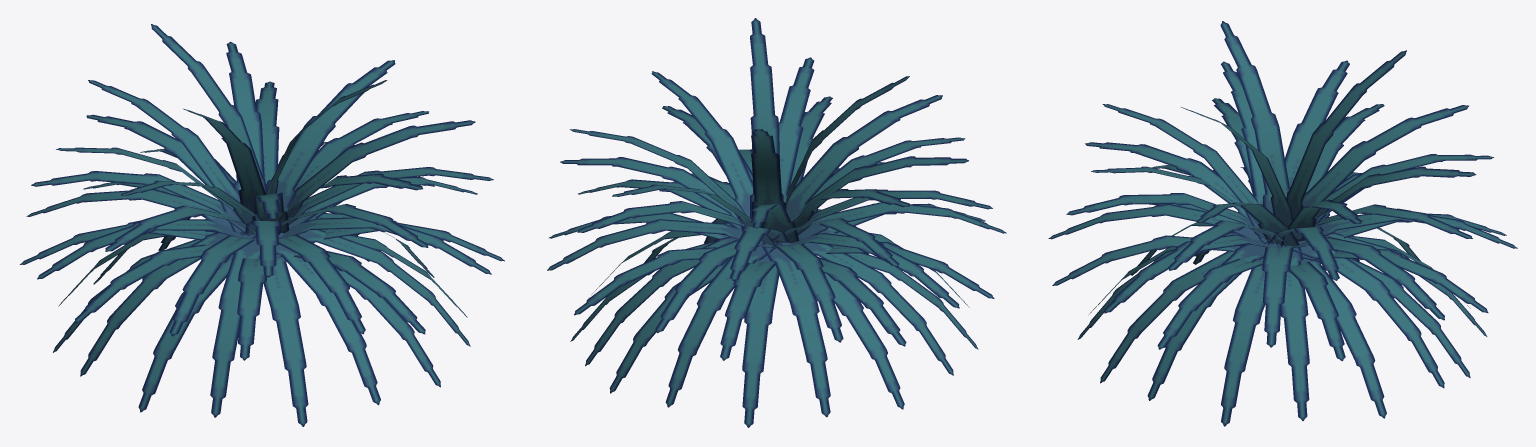
The model's file is Prop_Arbusto1.fbx.
3 views of the same model, side by side, from view 1: azimuth 30°, elevation 25°; view 2: azimuth 150°, elevation 25°; view 3: azimuth 270°, elevation 25° (orthographic). The views are drawn at different scales.
Visible parts, largest first — view 1: Hoja_LargaAzul.005; view 2: Hoja_LargaAzul.005; view 3: Hoja_LargaAzul.005.
Boxes of the visible parts, box(x1,y1,x2,y2) form: Hoja_LargaAzul.005: box(20, 24, 504, 426); Hoja_LargaAzul.005: box(547, 18, 1006, 427); Hoja_LargaAzul.005: box(1048, 21, 1517, 426).
Size of the model in its own units: 4.41 by 2.8 by 4.4.
